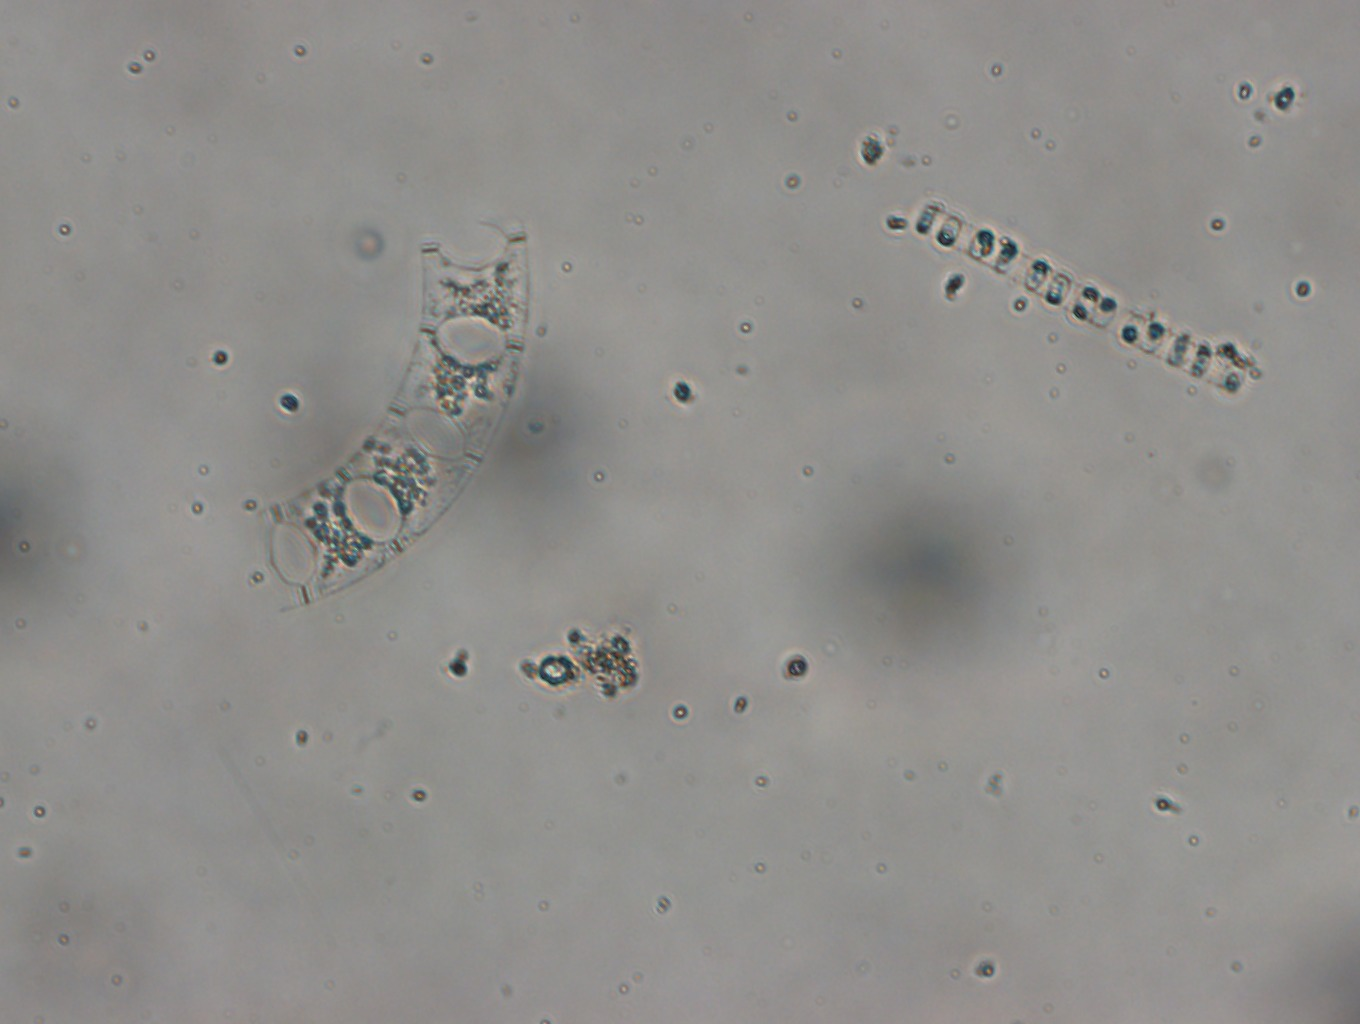eucampia: (235, 196, 536, 629)
skeletonema: (910, 193, 1257, 403)
